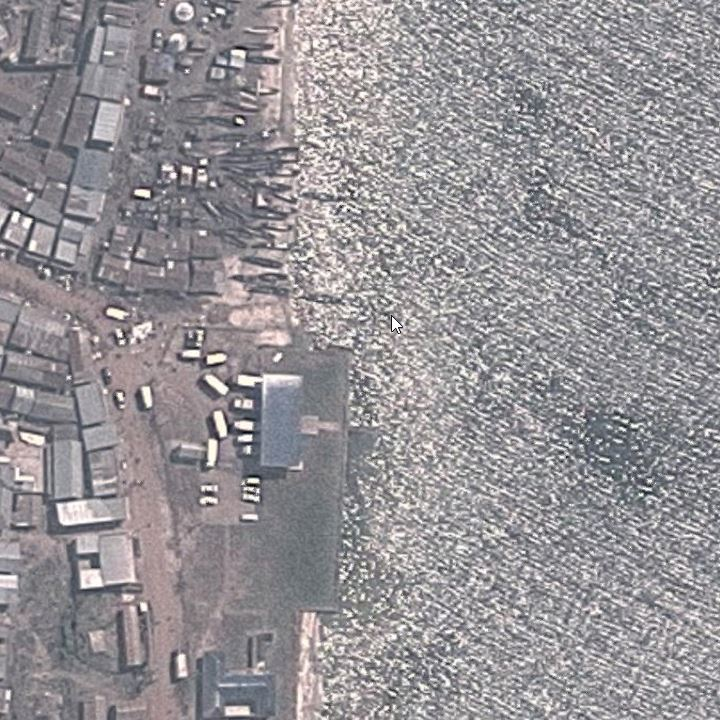boat: (235, 255, 287, 270), (221, 171, 256, 192), (220, 99, 262, 114), (176, 91, 220, 105), (247, 207, 288, 221), (206, 115, 241, 131), (232, 42, 278, 54), (217, 235, 250, 251), (206, 132, 246, 145), (244, 284, 287, 296), (244, 54, 282, 67), (225, 144, 266, 156), (227, 273, 270, 284), (223, 202, 250, 219), (222, 165, 257, 178), (241, 226, 276, 239), (253, 1, 300, 10), (217, 206, 245, 221), (241, 26, 283, 36), (269, 191, 300, 204), (202, 201, 225, 218), (230, 90, 262, 102), (258, 221, 294, 231), (257, 271, 289, 282), (268, 166, 300, 177), (219, 157, 254, 167), (247, 85, 282, 95), (264, 203, 298, 213), (227, 227, 251, 240), (274, 152, 300, 162)
